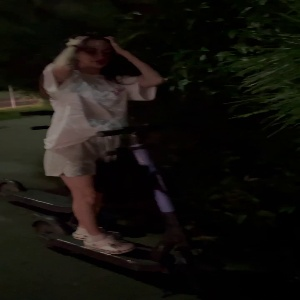human on a scooter: (31, 21, 232, 290)
